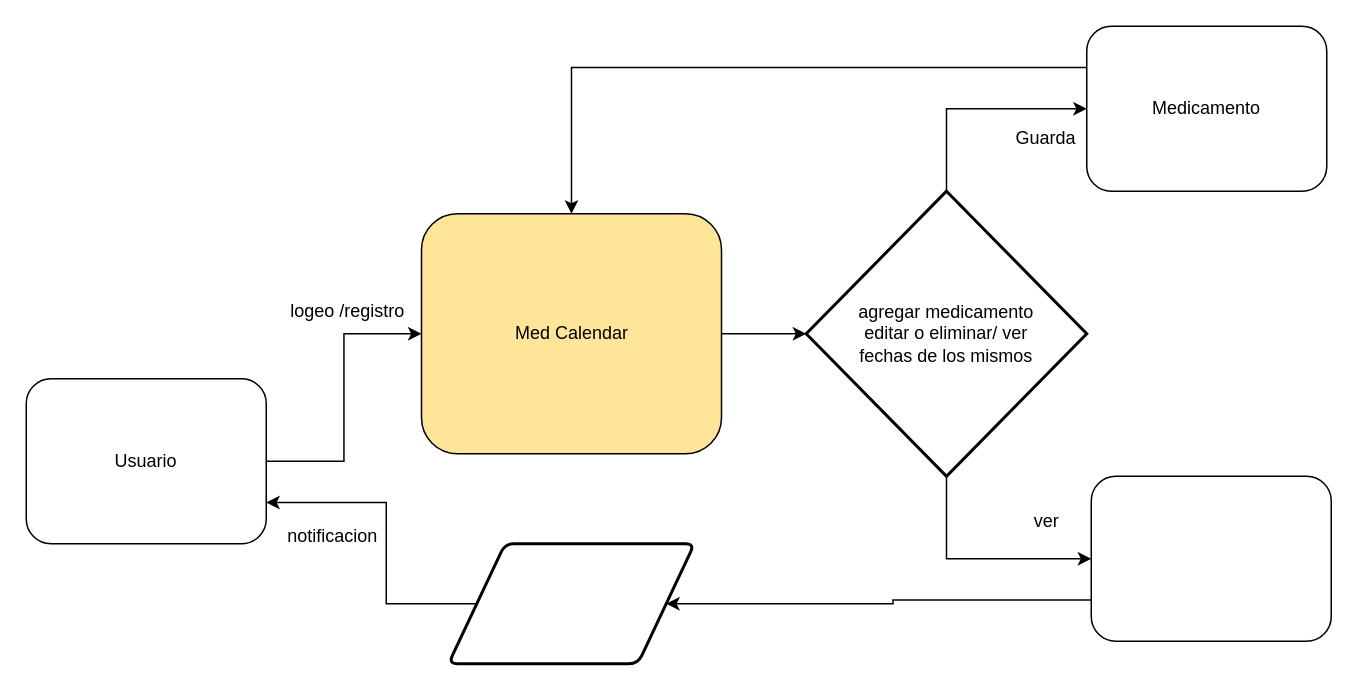
This 1358x692 diagram has some shape labels left out. Here are the shapes that lost their labels. From the top down, the centre of each, then its label:
the point at 1210,558: fechas proximas
the point at 570,603: Enviar notificacion
